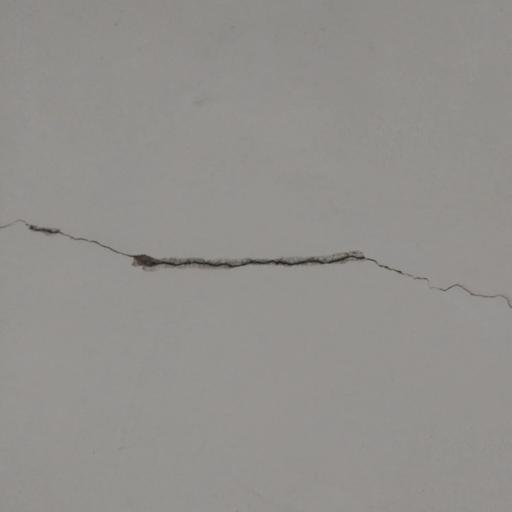major_crack: (0, 199, 512, 321)
